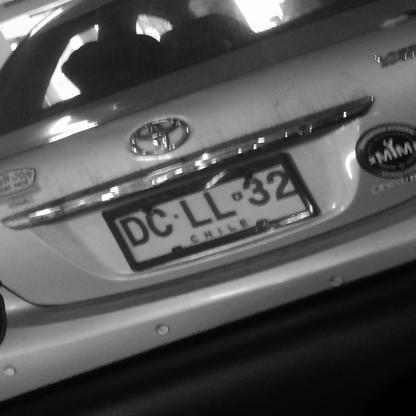Patente: (113, 162, 311, 266)
